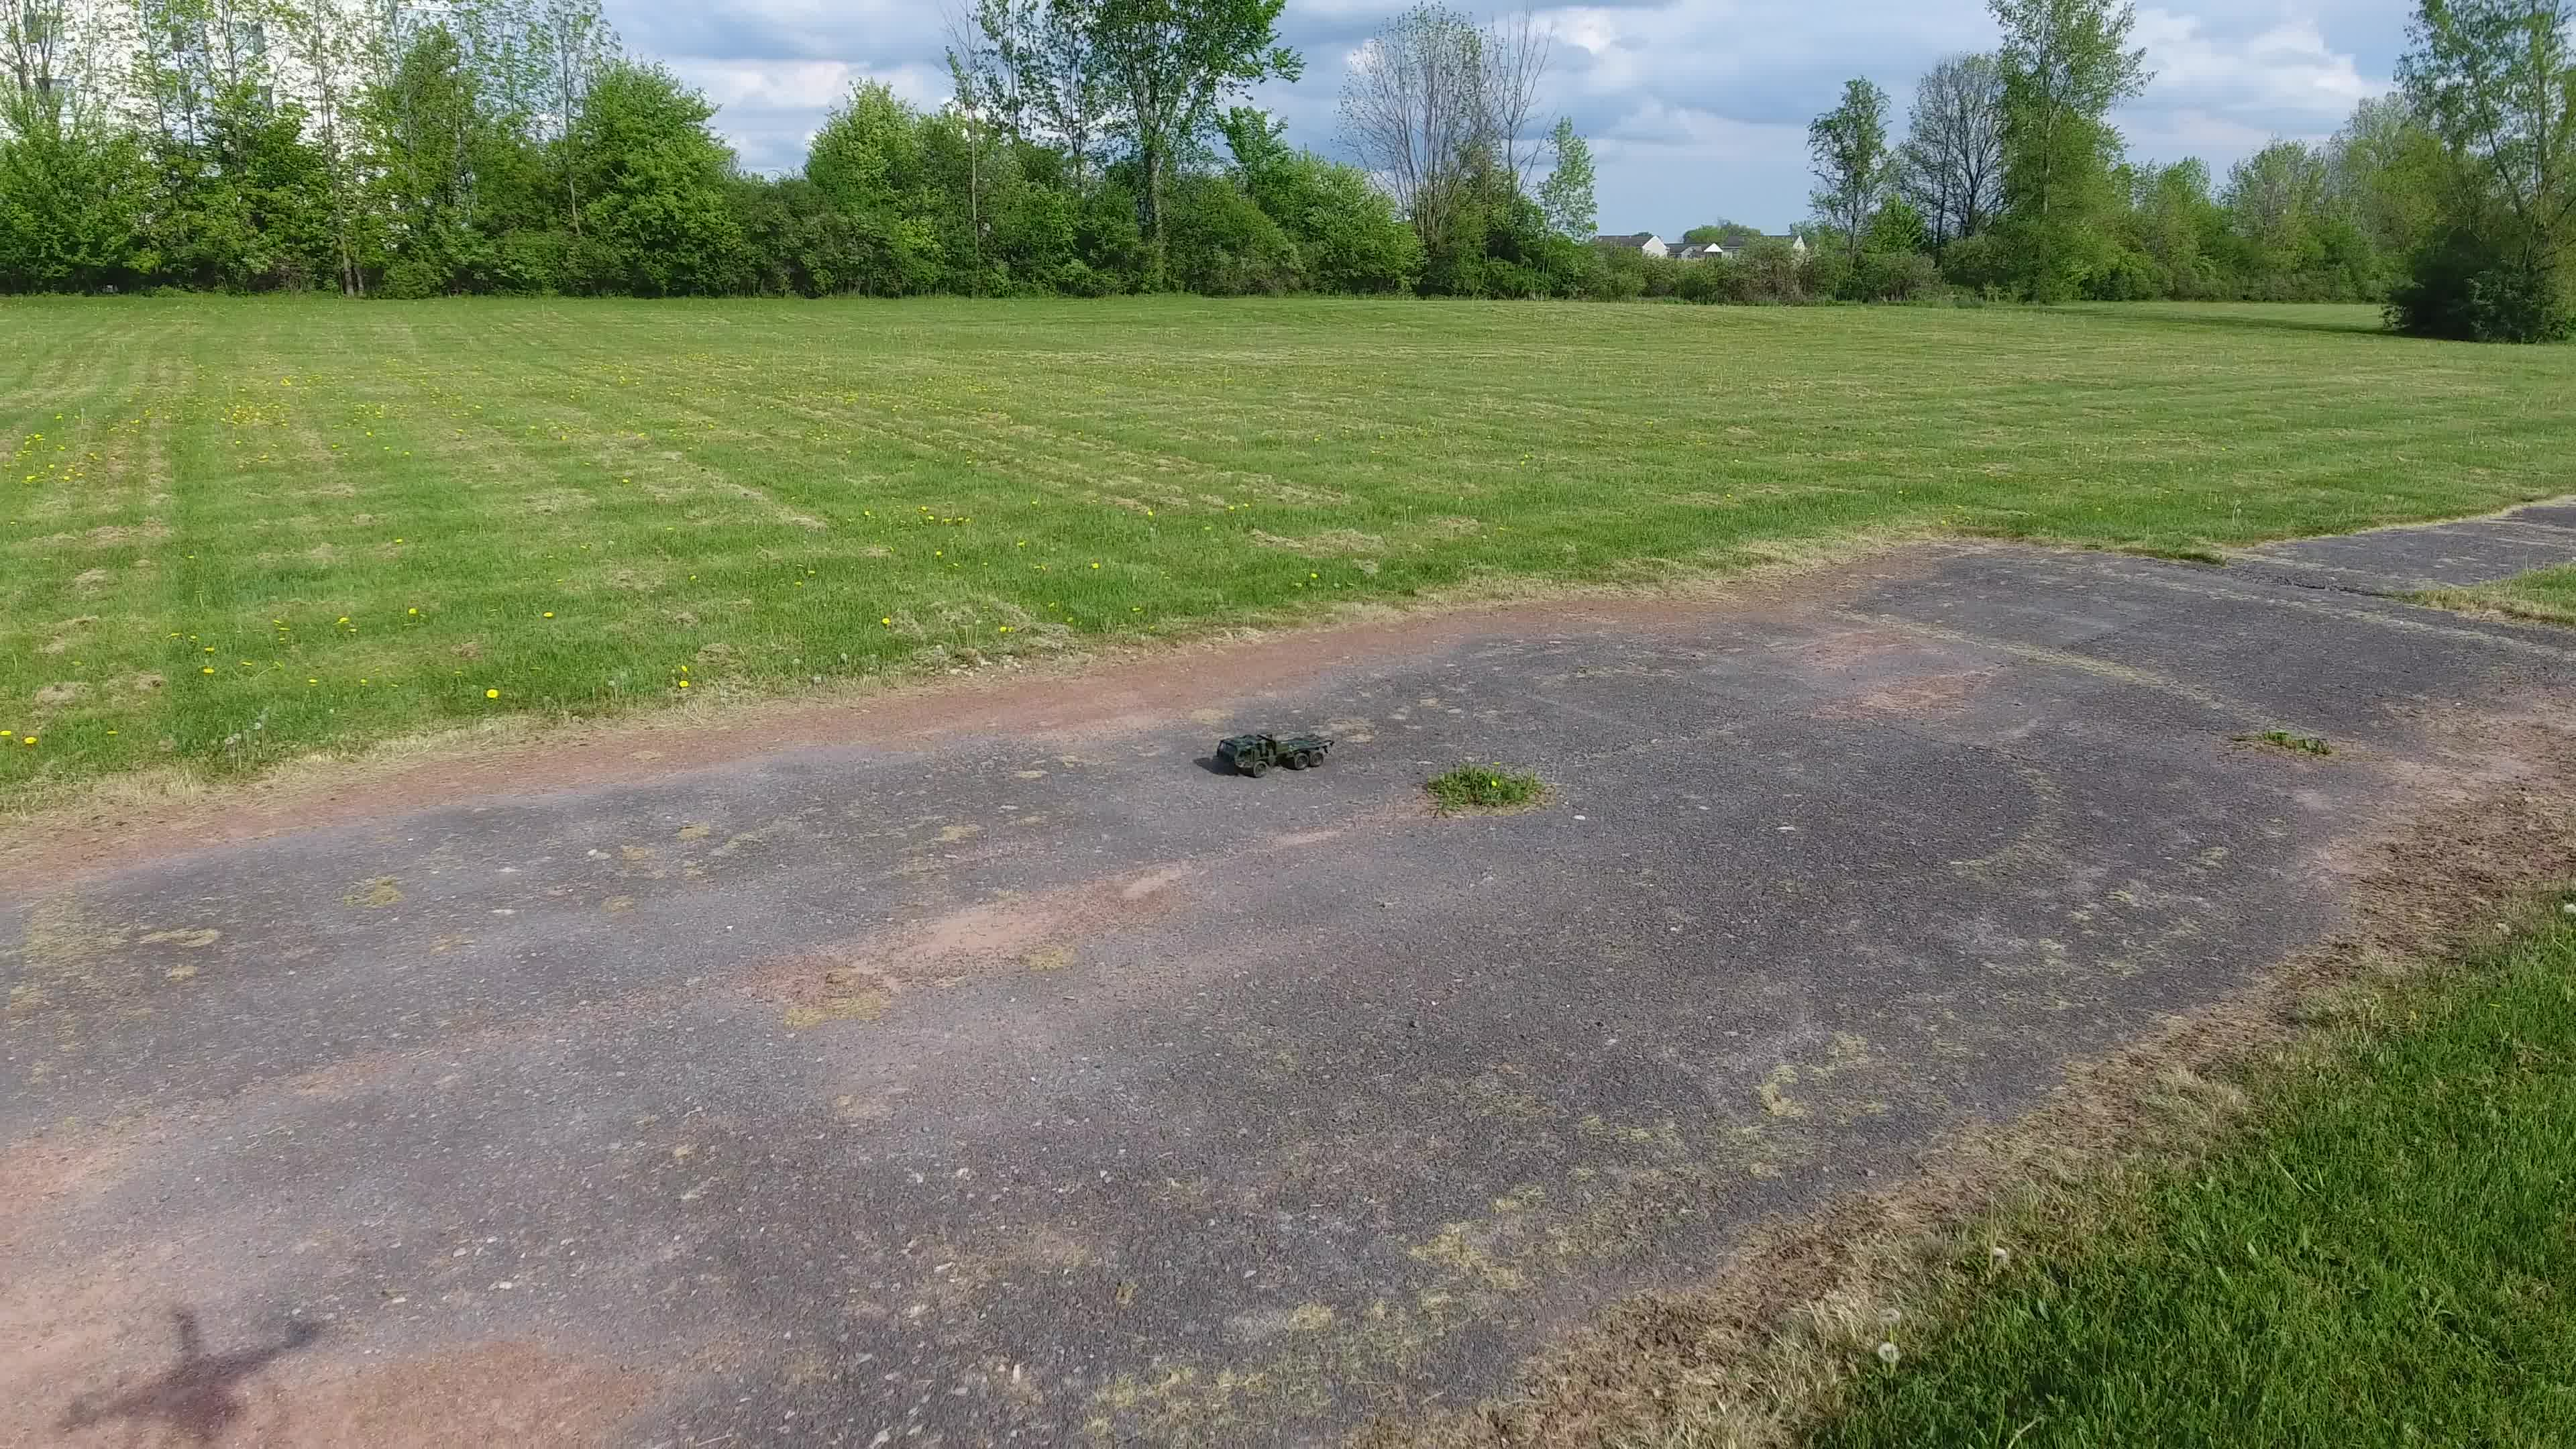transporter9_camo: (1212, 725, 1334, 780)
